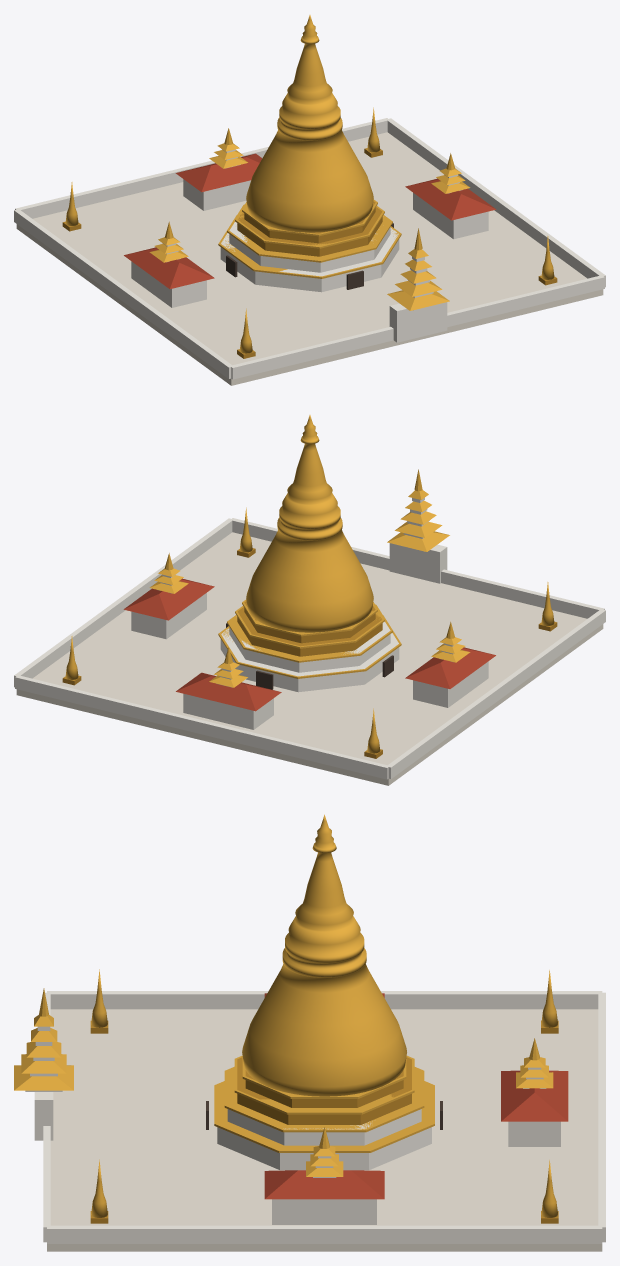
The model's file is botataung.glb.
3 views of the same model, one above another, from view 1: azimuth 30°, elevation 25°; view 2: azimuth 150°, elevation 25°; view 3: azimuth 270°, elevation 25° (orthographic). The views are drawn at different scales.
Visible parts, largest first — view 1: part; view 2: part; view 3: part.
Boxes of the visible parts, bbox=[...] form: part: bbox=[14, 15, 605, 385]; part: bbox=[14, 415, 605, 785]; part: bbox=[14, 814, 605, 1251].
Size of the model in its own units: 2457498 by 1543442 by 2585316.
